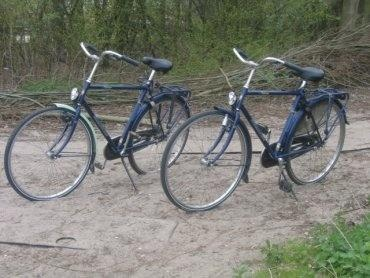bicycle: (159, 48, 350, 215), (4, 41, 192, 202)
